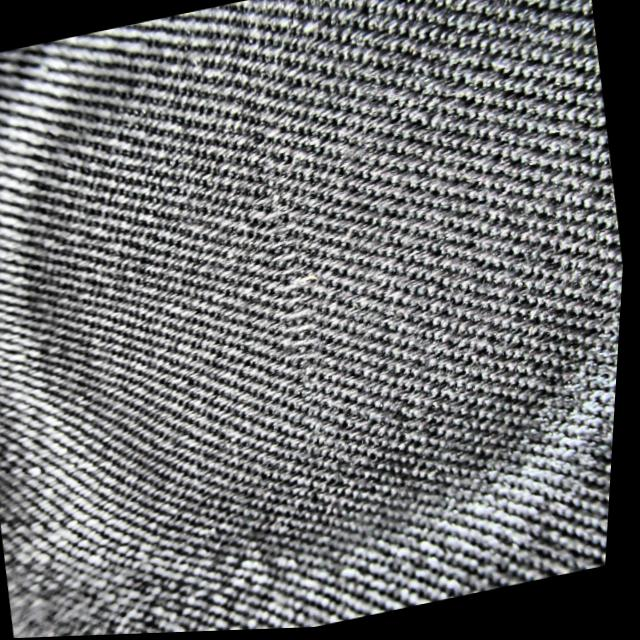Hole: (257, 205, 336, 368)
